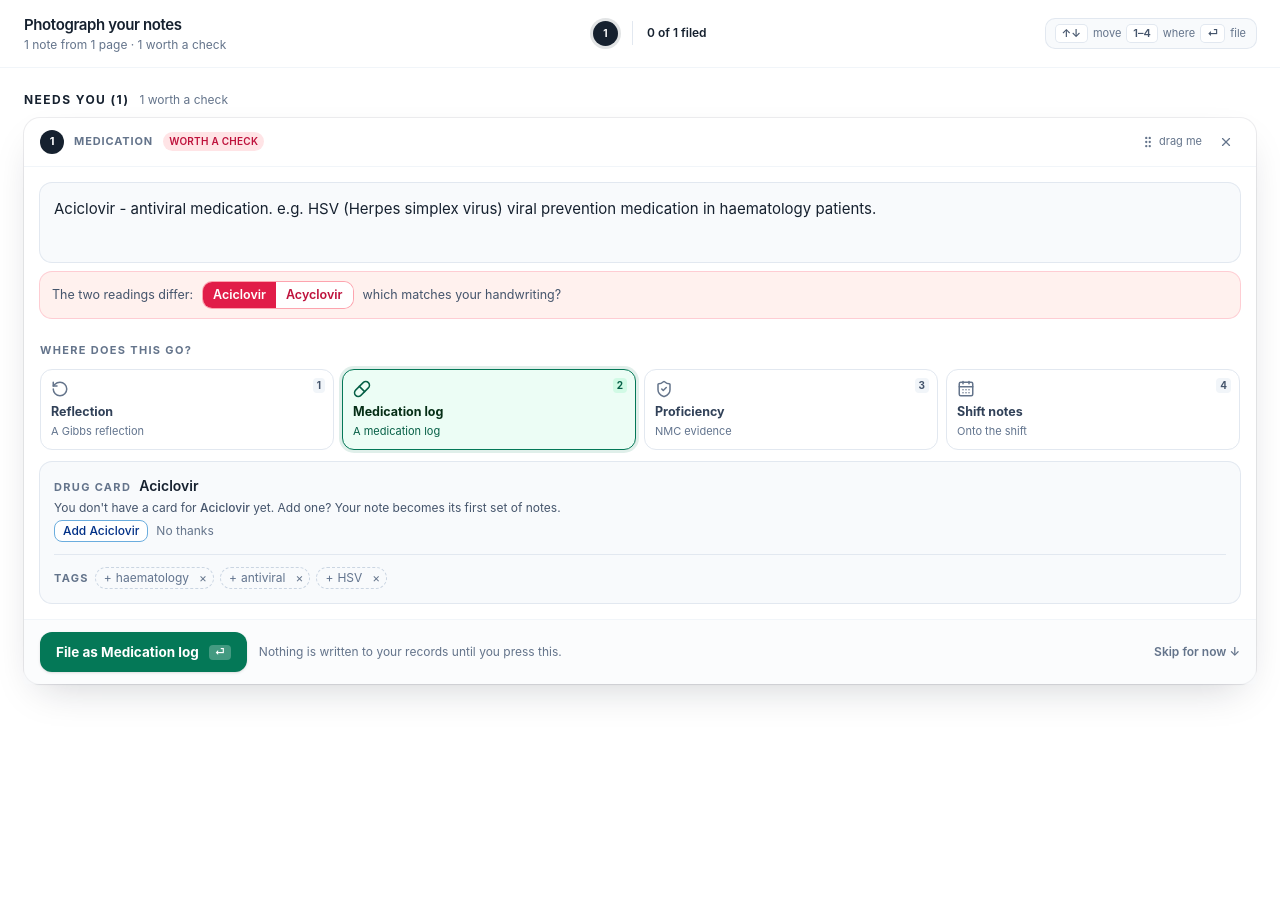
Test: ReviewPanel — the detail drawer only shows what the destination needs › shows the reflection stages it found rather than promising them
What coordinates should you click on to do the following:
click the button "Reflection A Gibbs reflection 1"
I would click on:
 (82, 411)
Its box is [40, 369, 334, 450].
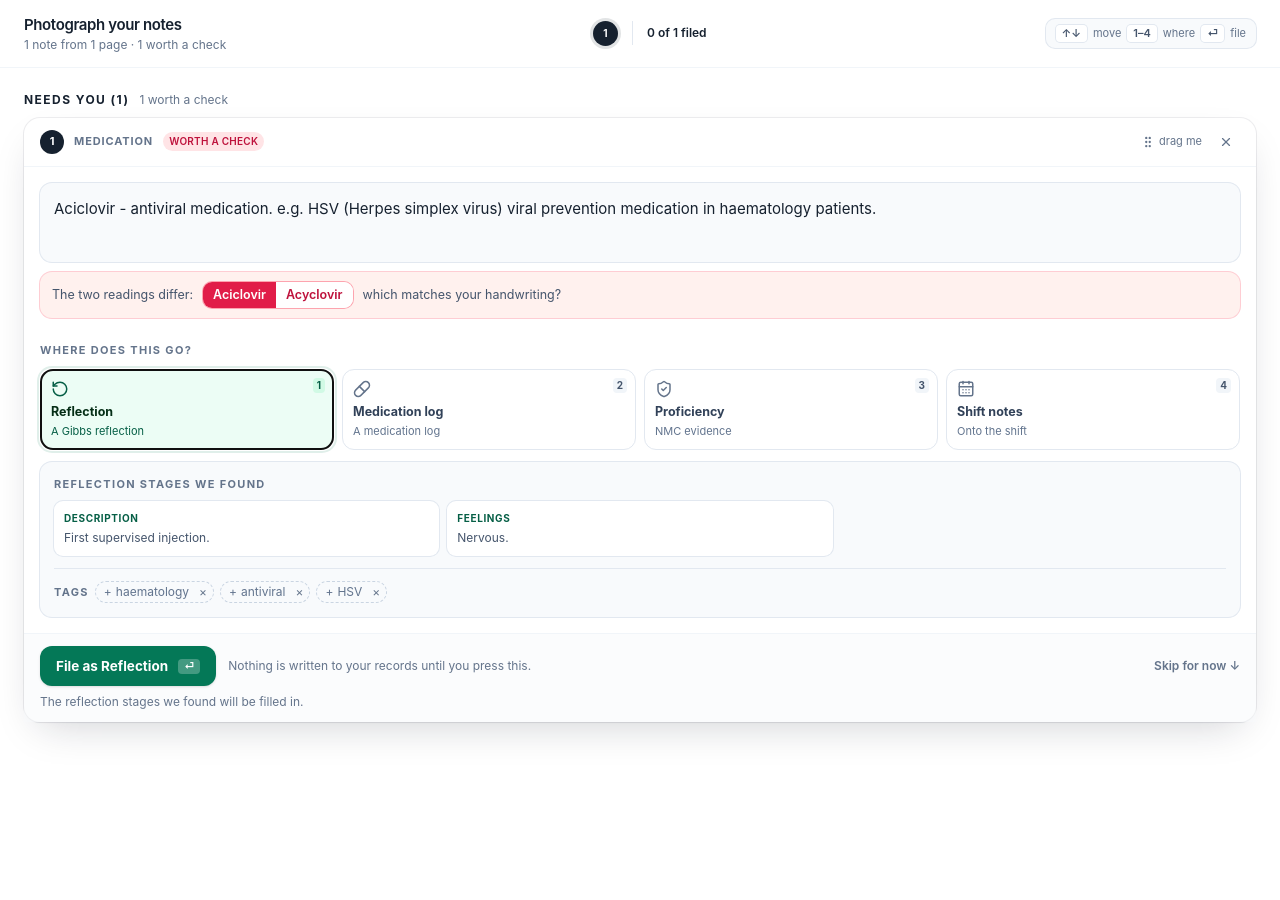
Check: the text "Reflection stages we found" is shown, box [54, 477, 266, 491]
Check: the text "First supervised injection." is shown, box [64, 530, 210, 545]
Check: the text "Nervous." is shown, box [457, 530, 509, 545]
